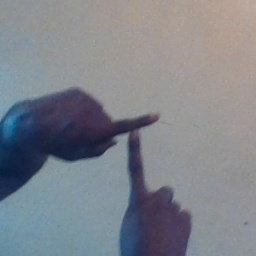T: (84, 94, 185, 219)
